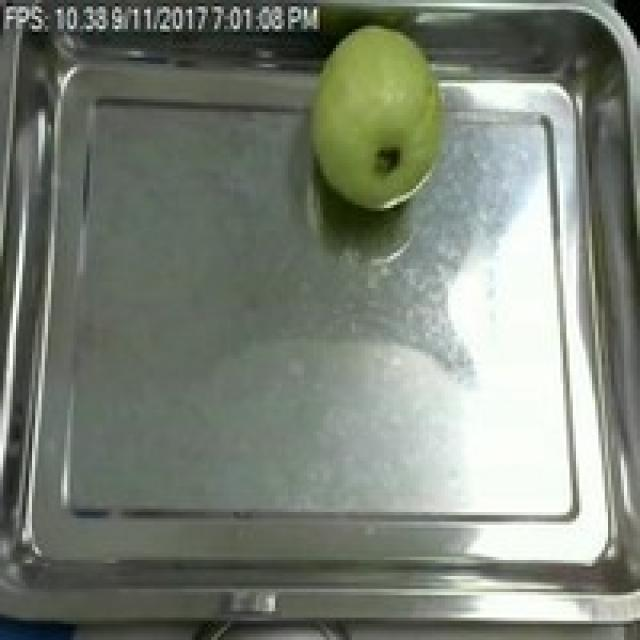Fruit: (298, 16, 460, 224)
